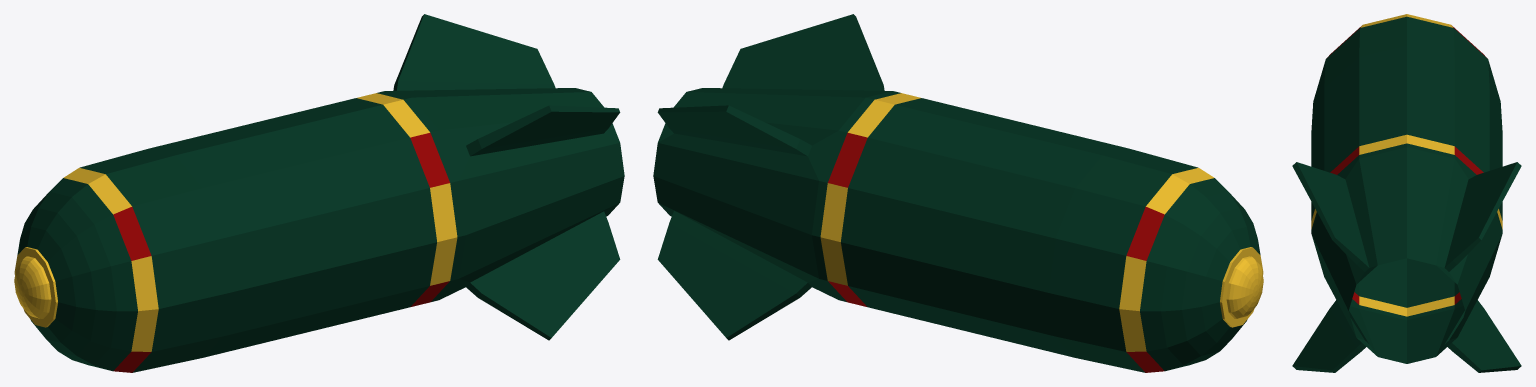
File: nuke (1).fbx
3 renders of one model, left to right at view 1: azimuth 30°, elevation 25°; view 2: azimuth 150°, elevation 25°; view 3: azimuth 270°, elevation 25°, orthographic. The views are drawn at different scales.
Parts seen in each view (by area): view 1: Cylinder; view 2: Cylinder; view 3: Cylinder.
Part boxes in pixels (x1,y1,x2,y2): Cylinder: (14,14,624,372); Cylinder: (653,14,1263,372); Cylinder: (1292,14,1521,372).
Size of the model in its own units: 97.51 by 38.47 by 38.47.
